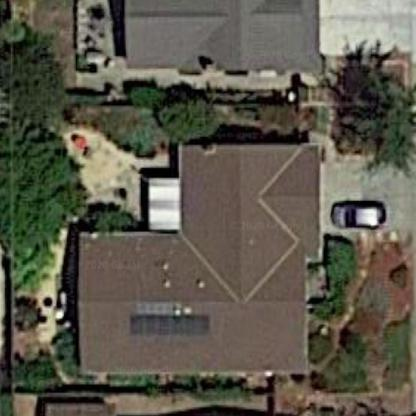car: (325, 196, 391, 234)
solar_panel: (124, 307, 214, 341)
